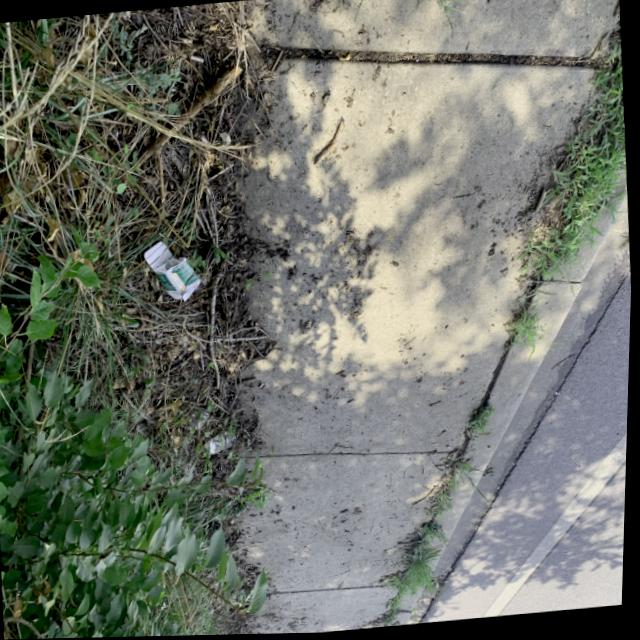Paper: (141, 235, 206, 306)
Plastic: (206, 430, 244, 461)
